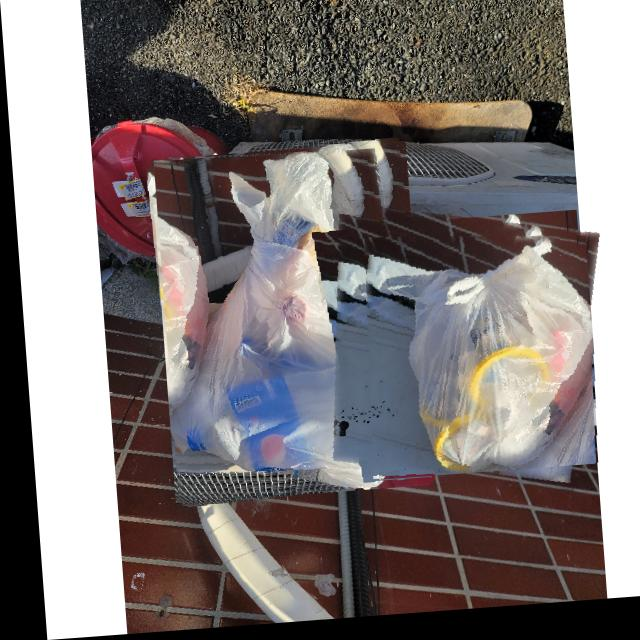other_trashbag: (166, 154, 414, 493), (360, 242, 587, 480)
